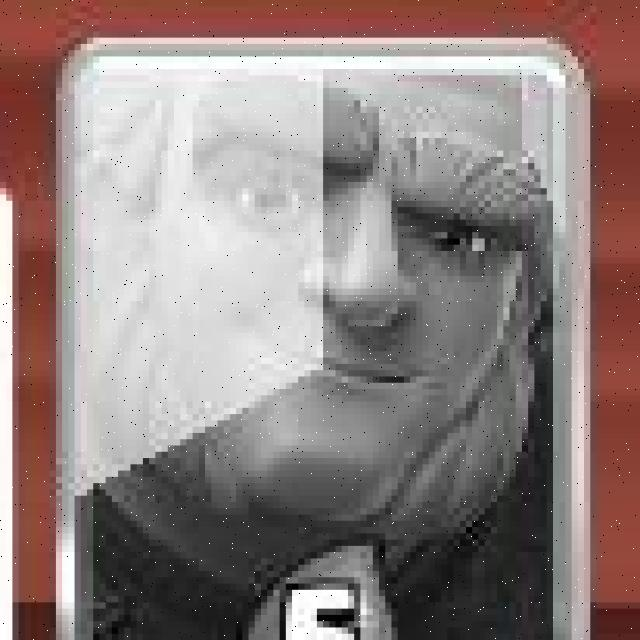Giant: (61, 39, 596, 640)
